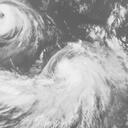cyclone: (42, 56, 99, 106), (1, 4, 20, 35)
